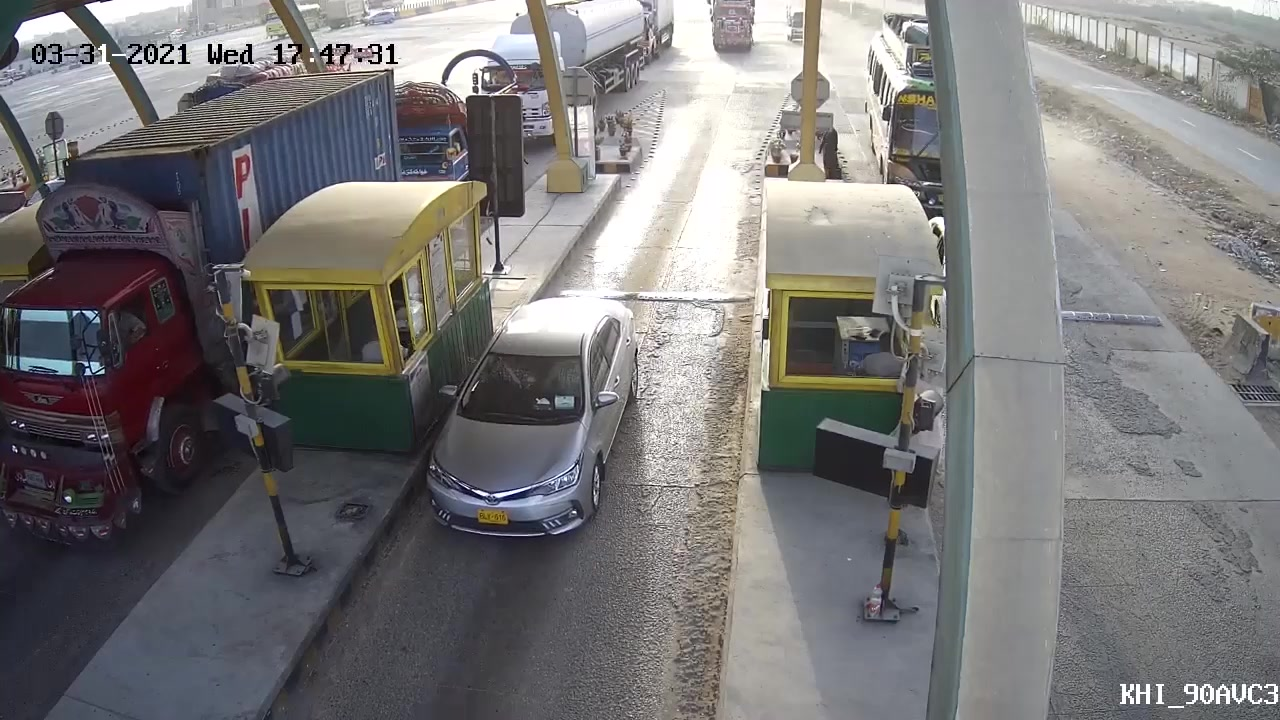F1: (414, 294, 651, 561)
